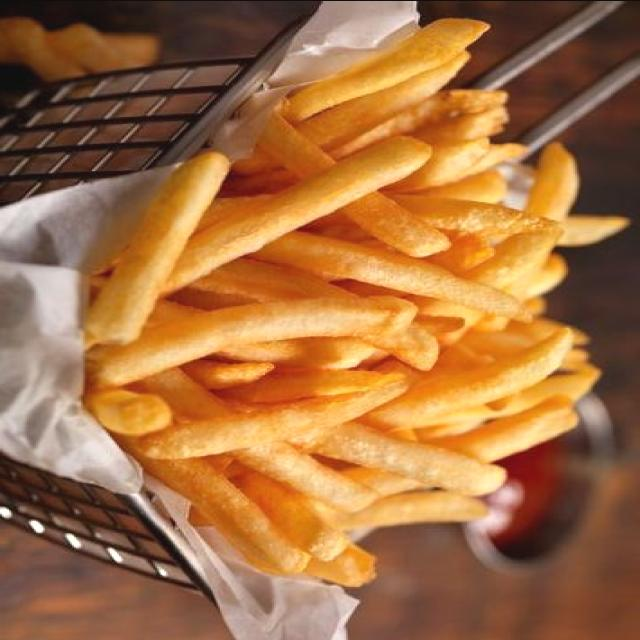kentang goreng: (79, 18, 602, 587)
